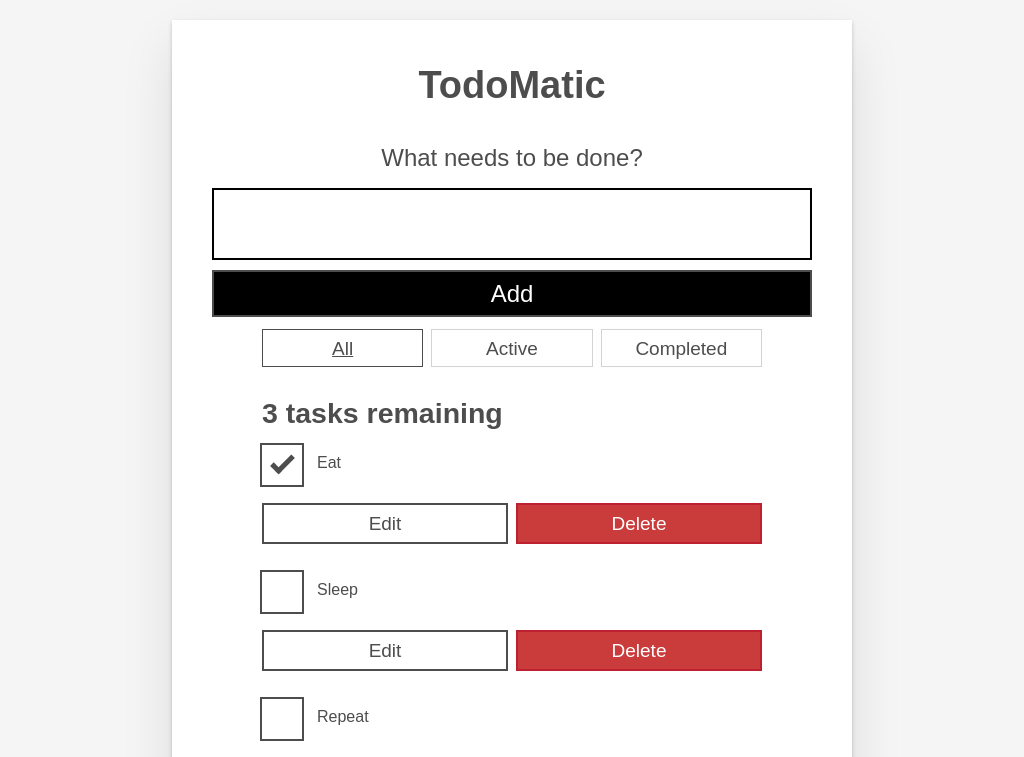
example to-do app › can delete tasks
Expected: the list item "Eat Edit Delete" is shown, [262,445,762,544]
Click the 1st button "Delete" at [639, 524], box [516,503,762,544]
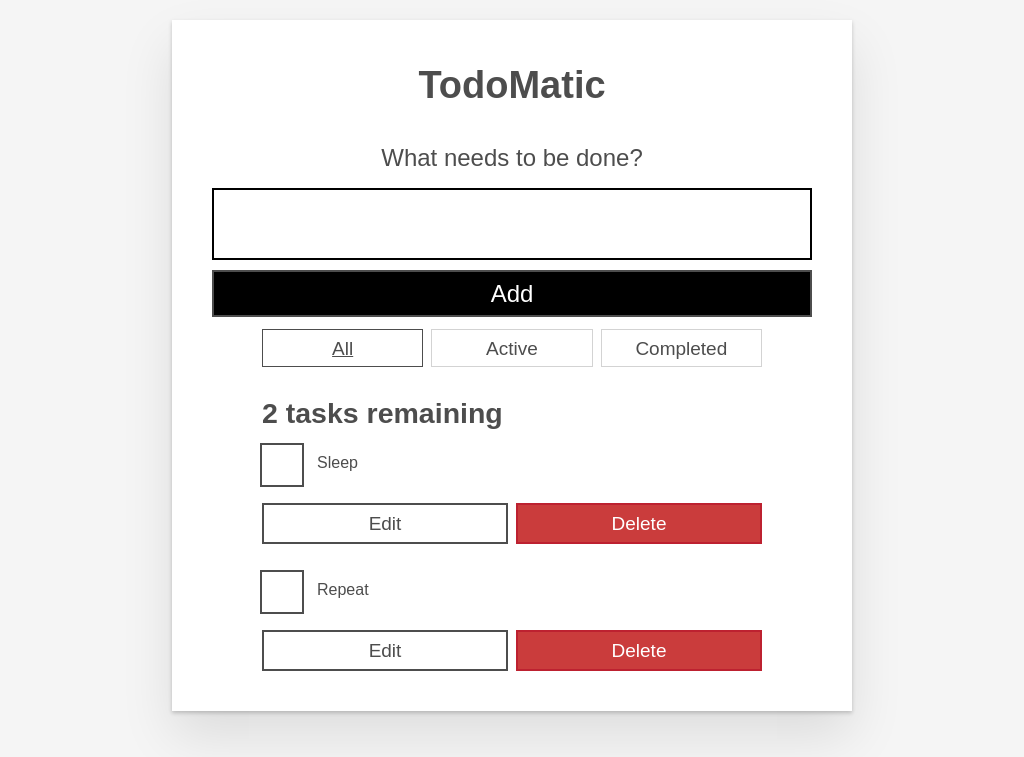
Expected: the text "Eat" is not shown
Expected: the number of list items is 2, [262,445,762,544]; [262,572,762,671]
